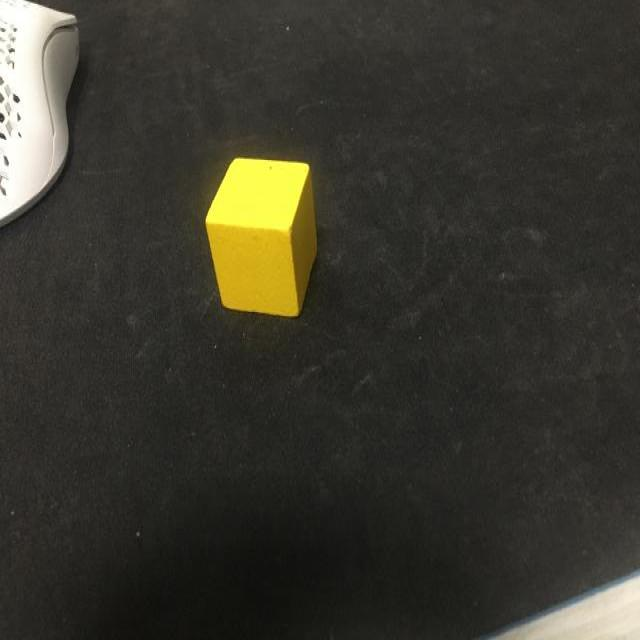yellow: (206, 157, 320, 319)
